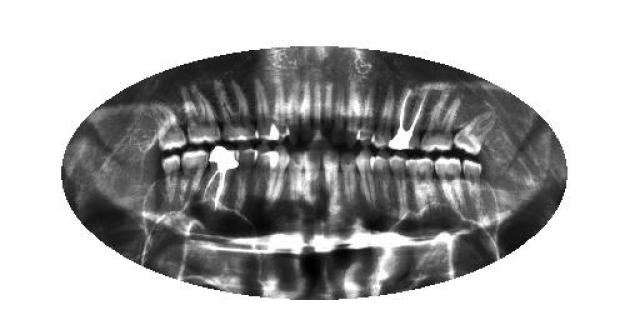Implant: (199, 145, 240, 213), (388, 86, 430, 150)
Restorations: (452, 109, 496, 156)
